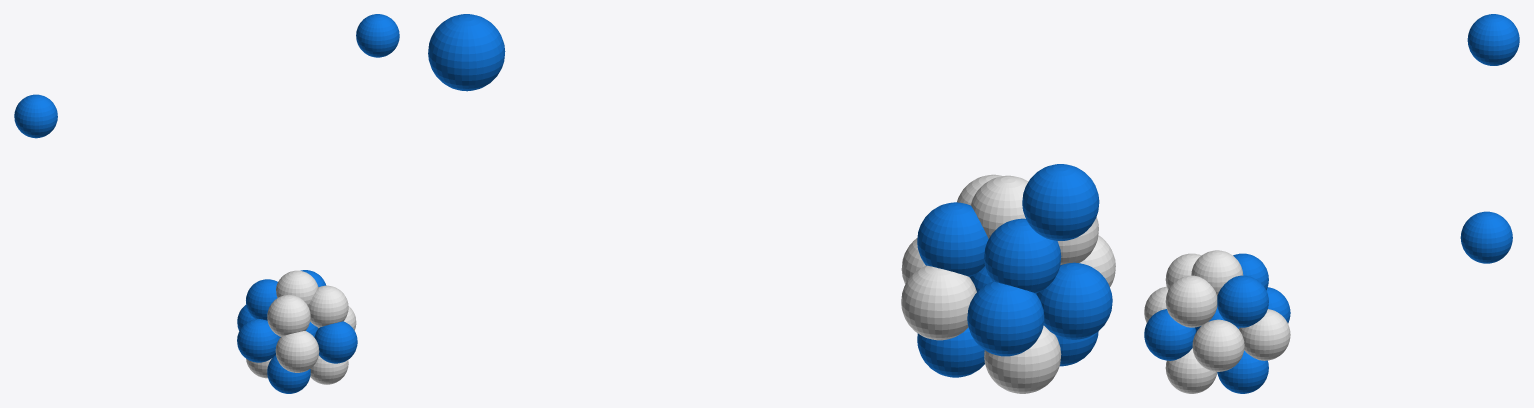
File: reactionNucleus.fbx
The picture shows the model from 3 angles, left to right: view 1: azimuth 30°, elevation 25°; view 2: azimuth 150°, elevation 25°; view 3: azimuth 270°, elevation 25°; orthographic projection. The views are drawn at different scales.
Parts seen in each view (by area): view 1: HydroProton, HydroProton.001, Neutron3, Neutron5, Proton2, Proton3, Neutron8, Proton6, Neutron6, Proton7, Neutron4; view 2: HydroProton.001, HydroProton, Proton4, Proton3, Neutron1, Proton7, Proton8, Neutron7, Neutron6, Proton5, Neutron5, Neutron3 (+2 smaller); view 3: Neutron2, HydroProton, HydroProton.001, Neutron8, Proton8, Proton2, Neutron1, Neutron4, Proton5, Neutron6, Neutron5, Proton7 (+2 smaller).
Part boxes in pixels (x1,y1,x2,y2): HydroProton: [356, 14, 399, 57]; HydroProton.001: [14, 94, 57, 138]; Neutron3: [275, 331, 319, 372]; Neutron5: [267, 295, 310, 336]; Proton2: [314, 321, 357, 363]; Proton3: [237, 319, 280, 362]; Neutron8: [308, 285, 348, 327]; Proton6: [267, 355, 310, 393]; Neutron6: [276, 270, 318, 305]; Proton7: [246, 279, 277, 320]; Neutron4: [310, 356, 348, 384]; HydroProton.001: [1022, 164, 1099, 240]; HydroProton: [428, 14, 505, 91]; Proton4: [967, 281, 1044, 356]; Proton3: [1036, 262, 1112, 339]; Neutron1: [901, 265, 976, 340]; Proton7: [984, 218, 1061, 293]; Proton8: [917, 202, 988, 276]; Neutron7: [984, 325, 1061, 393]; Neutron6: [970, 175, 1028, 238]; Proton5: [917, 327, 984, 377]; Neutron5: [1057, 217, 1098, 264]; Neutron3: [1079, 235, 1115, 286]; Neutron2: [1192, 319, 1244, 371]; HydroProton: [1460, 211, 1512, 263]; HydroProton.001: [1467, 14, 1519, 65]; Neutron8: [1165, 275, 1217, 327]; Proton8: [1217, 275, 1268, 327]; Proton2: [1144, 309, 1195, 360]; Neutron1: [1239, 309, 1290, 360]; Neutron4: [1165, 348, 1217, 393]; Proton5: [1217, 350, 1268, 393]; Neutron6: [1191, 250, 1243, 295]; Neutron5: [1165, 253, 1201, 290]; Proton7: [1233, 253, 1268, 290].
Bounding box in the file's own units: 995 × 590 × 719.
